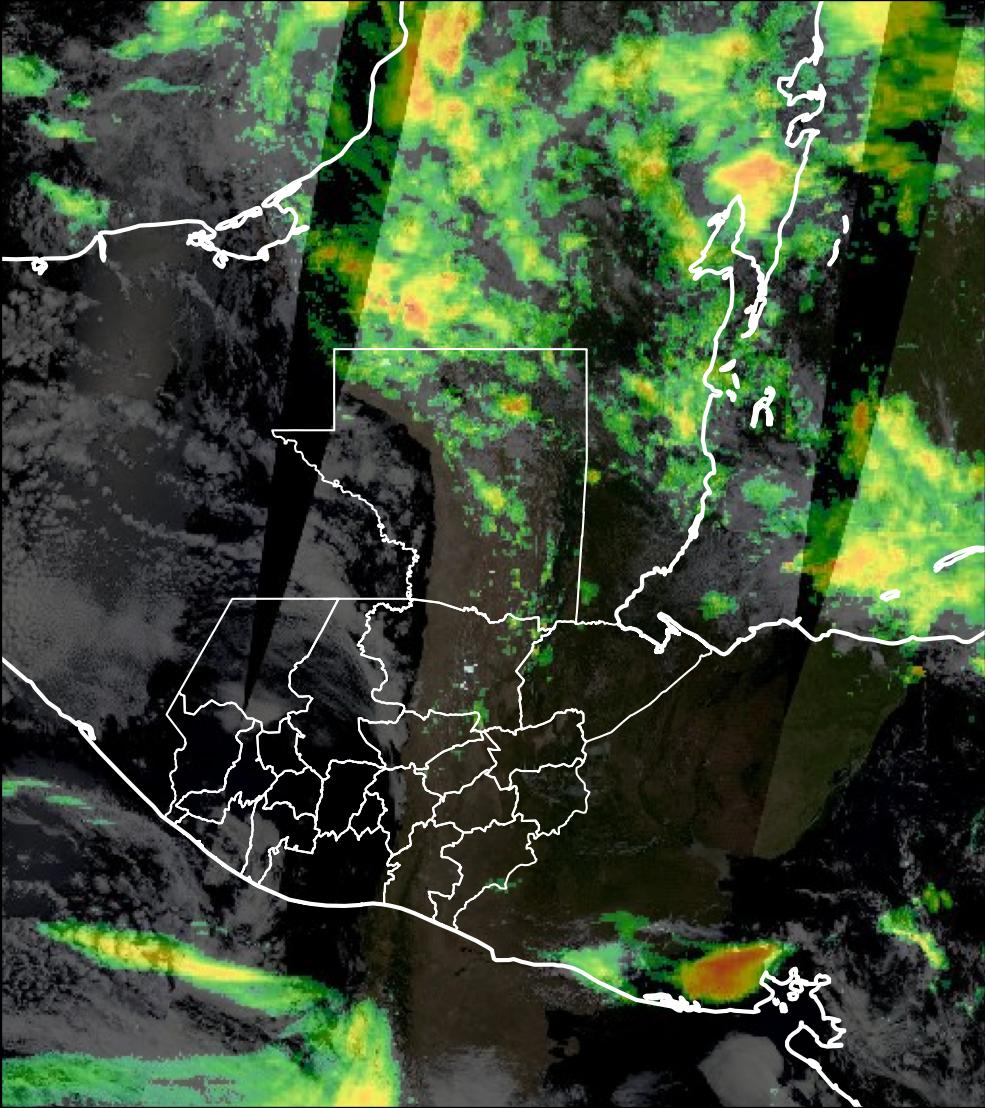precipitacion: (692, 942, 787, 1010), (398, 16, 454, 114), (719, 149, 792, 220)
